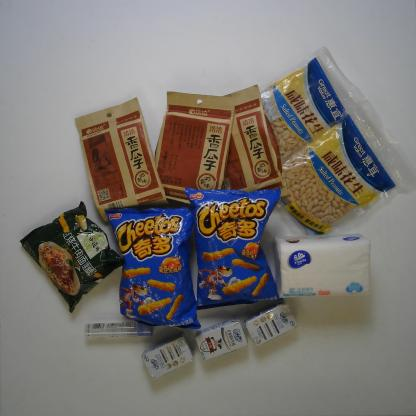Dried Food: (70, 94, 172, 226), (185, 79, 290, 204), (153, 89, 233, 206)
Dried Fruit: (224, 44, 370, 208), (260, 103, 416, 242)
Instant Noodles: (17, 202, 127, 314)
Milk: (140, 330, 196, 384), (192, 315, 252, 364), (244, 298, 300, 346)
Puffed Food: (100, 204, 202, 333), (183, 180, 282, 308)
Stationery: (82, 311, 155, 341)
Tissue: (268, 229, 372, 301)
